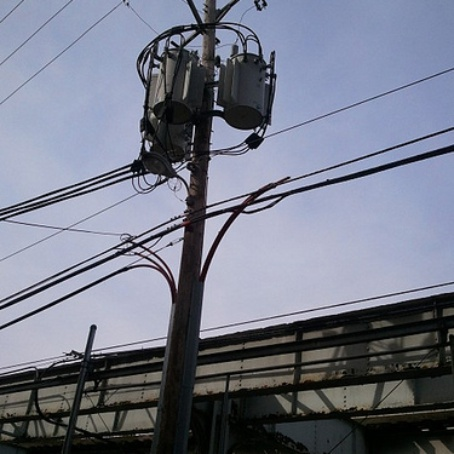power pole: (120, 11, 274, 454)
sky: (1, 1, 454, 318)
